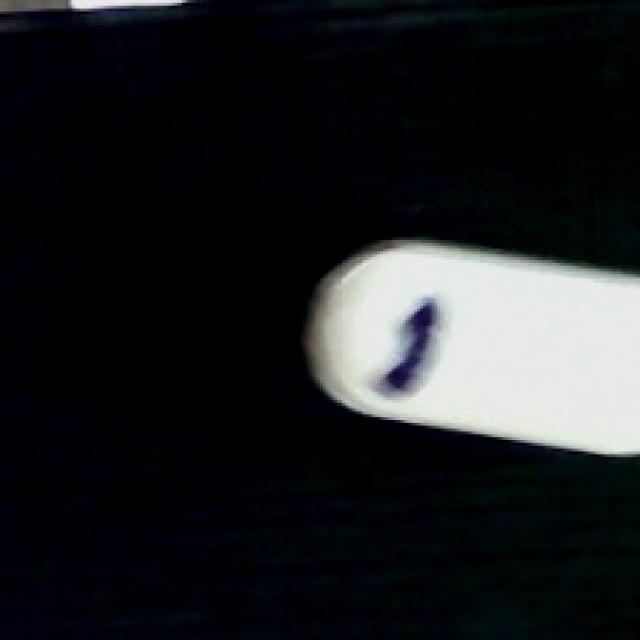defected: (291, 234, 640, 469)
